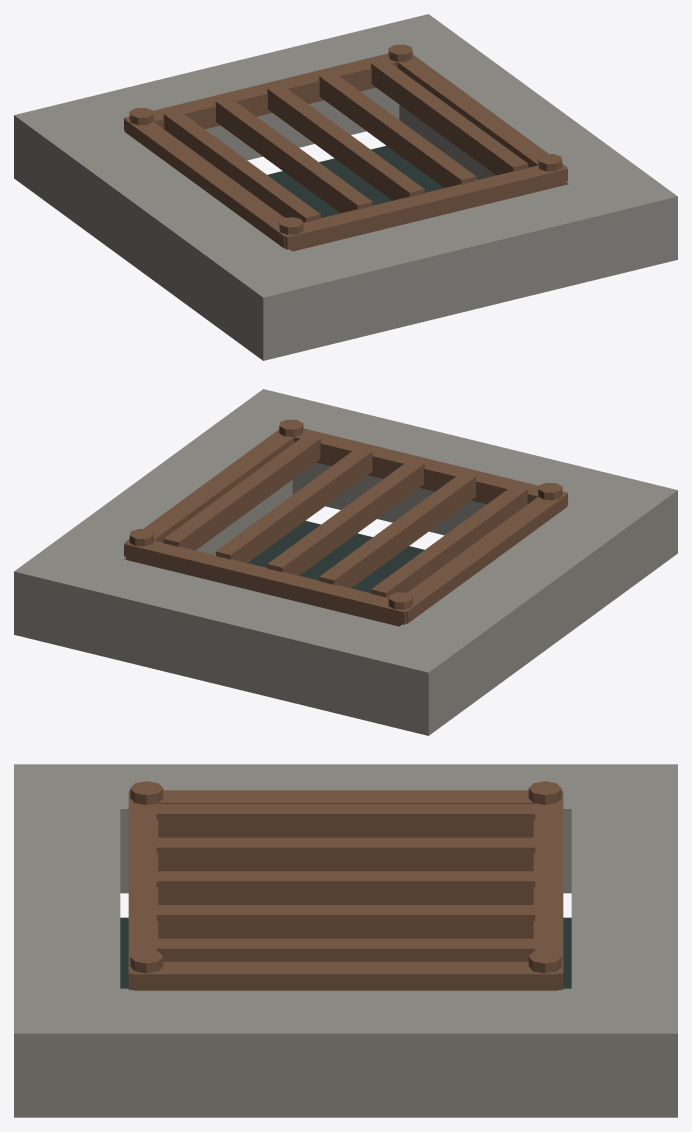
The model's file is grade_esgoto.glb.
The picture shows the model from 3 angles, top to bottom: view 1: azimuth 30°, elevation 25°; view 2: azimuth 150°, elevation 25°; view 3: azimuth 270°, elevation 25°; orthographic projection. The views are drawn at different scales.
Visible parts, largest first — view 1: South stone curb, West stone curb, North stone curb, East stone curb, Iron frame south, Grate crossbar 4, Grate crossbar 5, Grate crossbar 2, Grate crossbar 3, Iron frame west, Grate crossbar 1, Iron frame north (+2 smaller); view 2: North stone curb, West stone curb, South stone curb, East stone curb, Iron frame north, Grate crossbar 4, Grate crossbar 5, Grate crossbar 2, Grate crossbar 3, Iron frame west, Grate crossbar 1, Iron frame south (+2 smaller); view 3: East stone curb, North stone curb, South stone curb, West stone curb, Grate crossbar 2, Grate crossbar 3, Grate crossbar 1, Grate crossbar 4, Iron frame east, Grate crossbar 5, Iron frame west, Iron frame north (+6 smaller).
Boxes of the visible parts, bbox=[...] form: South stone curb: bbox=[223, 167, 677, 360]; West stone curb: bbox=[54, 127, 291, 331]; North stone curb: bbox=[14, 14, 467, 207]; East stone curb: bbox=[399, 43, 637, 184]; Iron frame south: bbox=[277, 165, 567, 251]; Grate crossbar 4: bbox=[319, 72, 476, 187]; Grate crossbar 5: bbox=[371, 60, 528, 175]; Grate crossbar 2: bbox=[215, 97, 372, 213]; Grate crossbar 3: bbox=[267, 85, 424, 200]; Iron frame west: bbox=[124, 118, 287, 248]; Grate crossbar 1: bbox=[163, 110, 320, 222]; Iron frame north: bbox=[124, 53, 415, 130]; North stone curb: bbox=[14, 542, 468, 735]; West stone curb: bbox=[400, 502, 637, 706]; South stone curb: bbox=[224, 389, 677, 582]; East stone curb: bbox=[54, 418, 292, 559]; Iron frame north: bbox=[124, 540, 415, 626]; Grate crossbar 4: bbox=[215, 447, 372, 562]; Grate crossbar 5: bbox=[163, 435, 320, 550]; Grate crossbar 2: bbox=[319, 472, 476, 588]; Grate crossbar 3: bbox=[267, 460, 424, 575]; Iron frame west: bbox=[406, 493, 567, 623]; Grate crossbar 1: bbox=[371, 485, 528, 597]; Iron frame south: bbox=[276, 428, 567, 505]; East stone curb: bbox=[120, 988, 571, 1117]; North stone curb: bbox=[571, 764, 677, 1117]; South stone curb: bbox=[14, 764, 120, 1117]; West stone curb: bbox=[120, 764, 571, 893]; Grate crossbar 2: bbox=[156, 837, 535, 871]; Grate crossbar 3: bbox=[156, 871, 535, 904]; Grate crossbar 1: bbox=[156, 804, 535, 837]; Grate crossbar 4: bbox=[156, 905, 535, 938]; Iron frame east: bbox=[133, 961, 558, 990]; Grate crossbar 5: bbox=[156, 938, 535, 961]; Iron frame west: bbox=[158, 790, 533, 803]; Iron frame north: bbox=[533, 791, 563, 989].
Bounding box in the file's own units: 0.96 × 0.2515 × 1.
